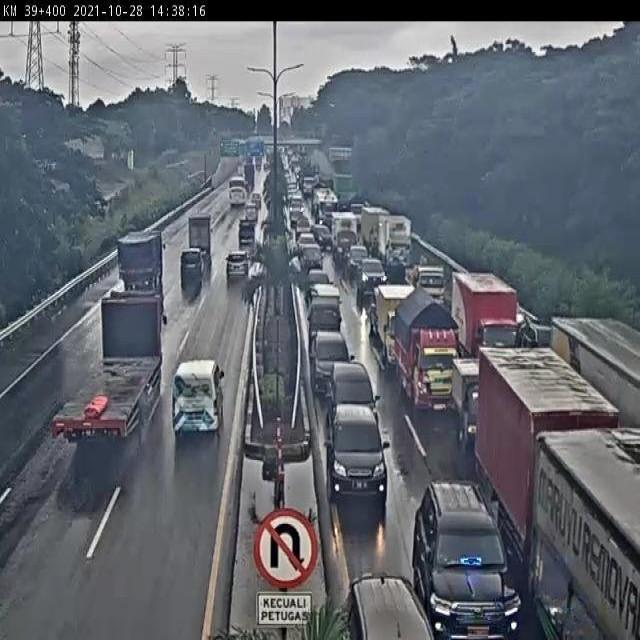big truck: (476, 349, 623, 582), (529, 420, 640, 640), (42, 282, 170, 466), (553, 318, 640, 422), (447, 267, 528, 361), (111, 230, 174, 302)
car: (402, 466, 529, 640), (316, 407, 397, 505), (339, 569, 441, 640), (163, 360, 231, 436), (301, 332, 353, 400), (330, 364, 384, 425), (225, 244, 253, 283), (179, 246, 205, 282)
small truck: (391, 287, 464, 413), (453, 352, 483, 453), (182, 214, 217, 258), (235, 216, 260, 247)
